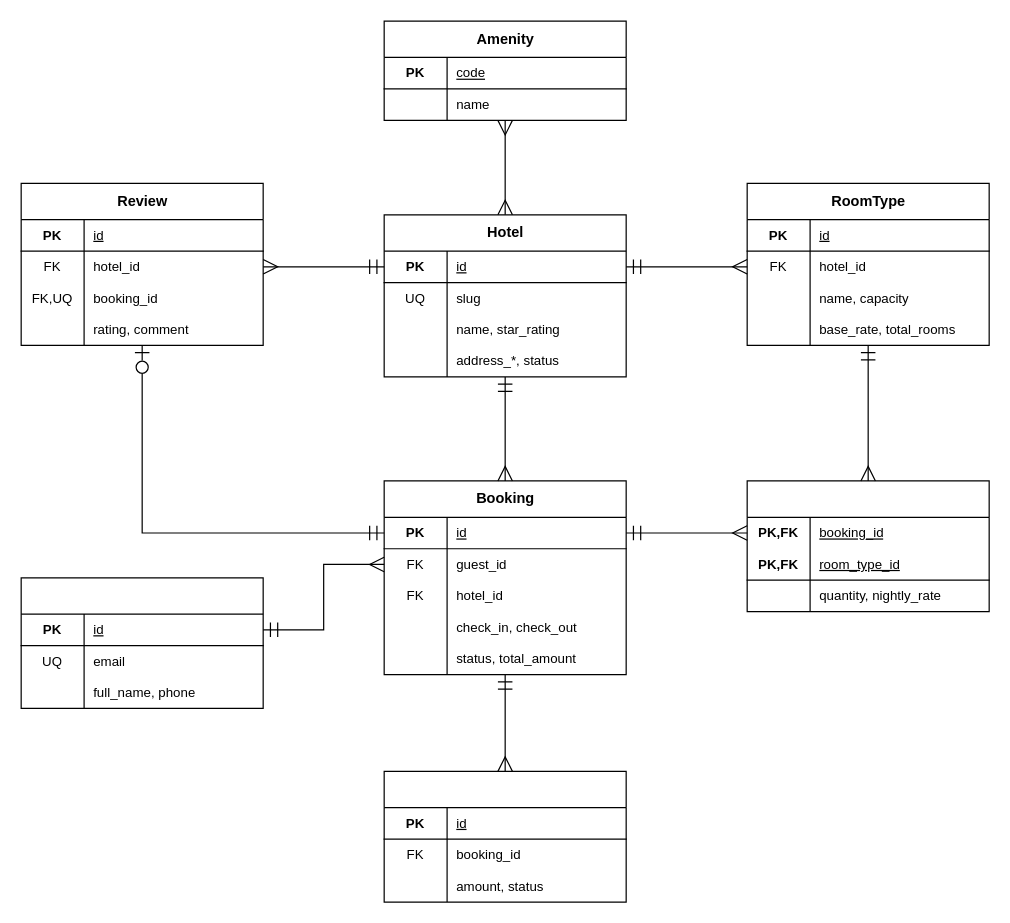
This 1010x923 diagram has some shape labels left out. The box of each missing label's shape, as (x1, y1, x2, y2) in pixels:
BookingItem: (746, 480, 989, 612)
Guest: (20, 577, 263, 708)
Payment: (383, 770, 626, 902)
